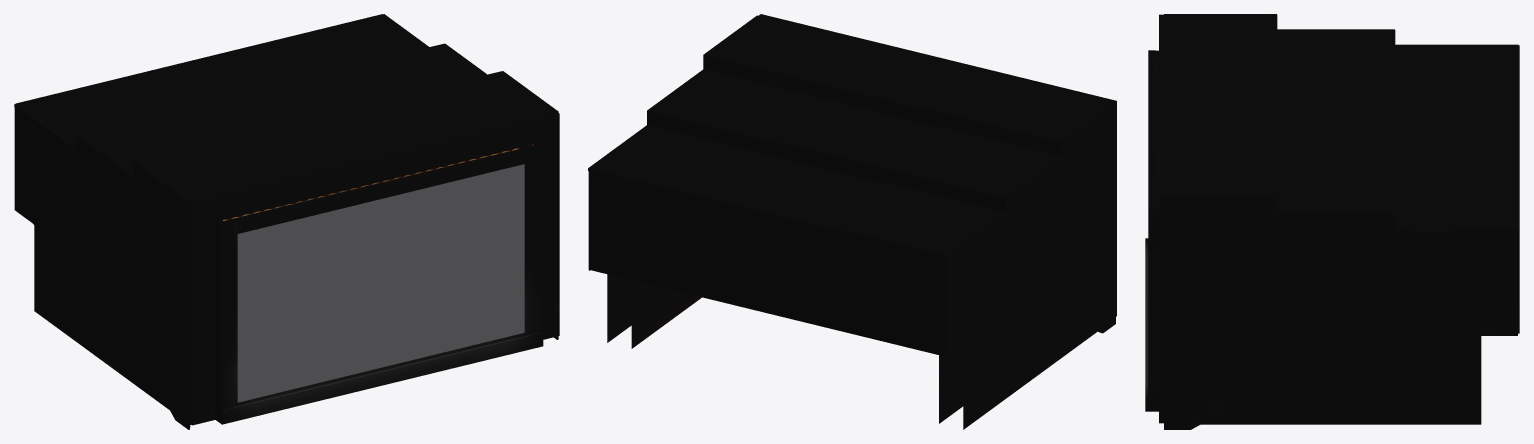
File: cinema.glb
The picture shows the model from 3 angles, left to right: view 1: azimuth 30°, elevation 25°; view 2: azimuth 150°, elevation 25°; view 3: azimuth 270°, elevation 25°; orthographic projection. The views are drawn at different scales.
Visible parts, largest first — view 1: hall, lights, walls@R; view 2: hall, walls@R, rows, walls@L; view 3: hall, walls@L.
Boxes of the visible parts, box(x1,y1,x2,y2) form: hall: box(14, 14, 559, 425); lights: box(237, 164, 524, 402); walls@R: box(14, 105, 190, 429); hall: box(588, 14, 1116, 356); walls@R: box(939, 106, 1115, 429); rows: box(631, 280, 963, 423); walls@L: box(588, 16, 756, 346); hall: box(1145, 14, 1519, 424); walls@L: box(1164, 197, 1517, 429).
Bounding box in the file's own units: 25.8 × 15.2 × 22.2.
Materials: 13 (6 with a texture image).
